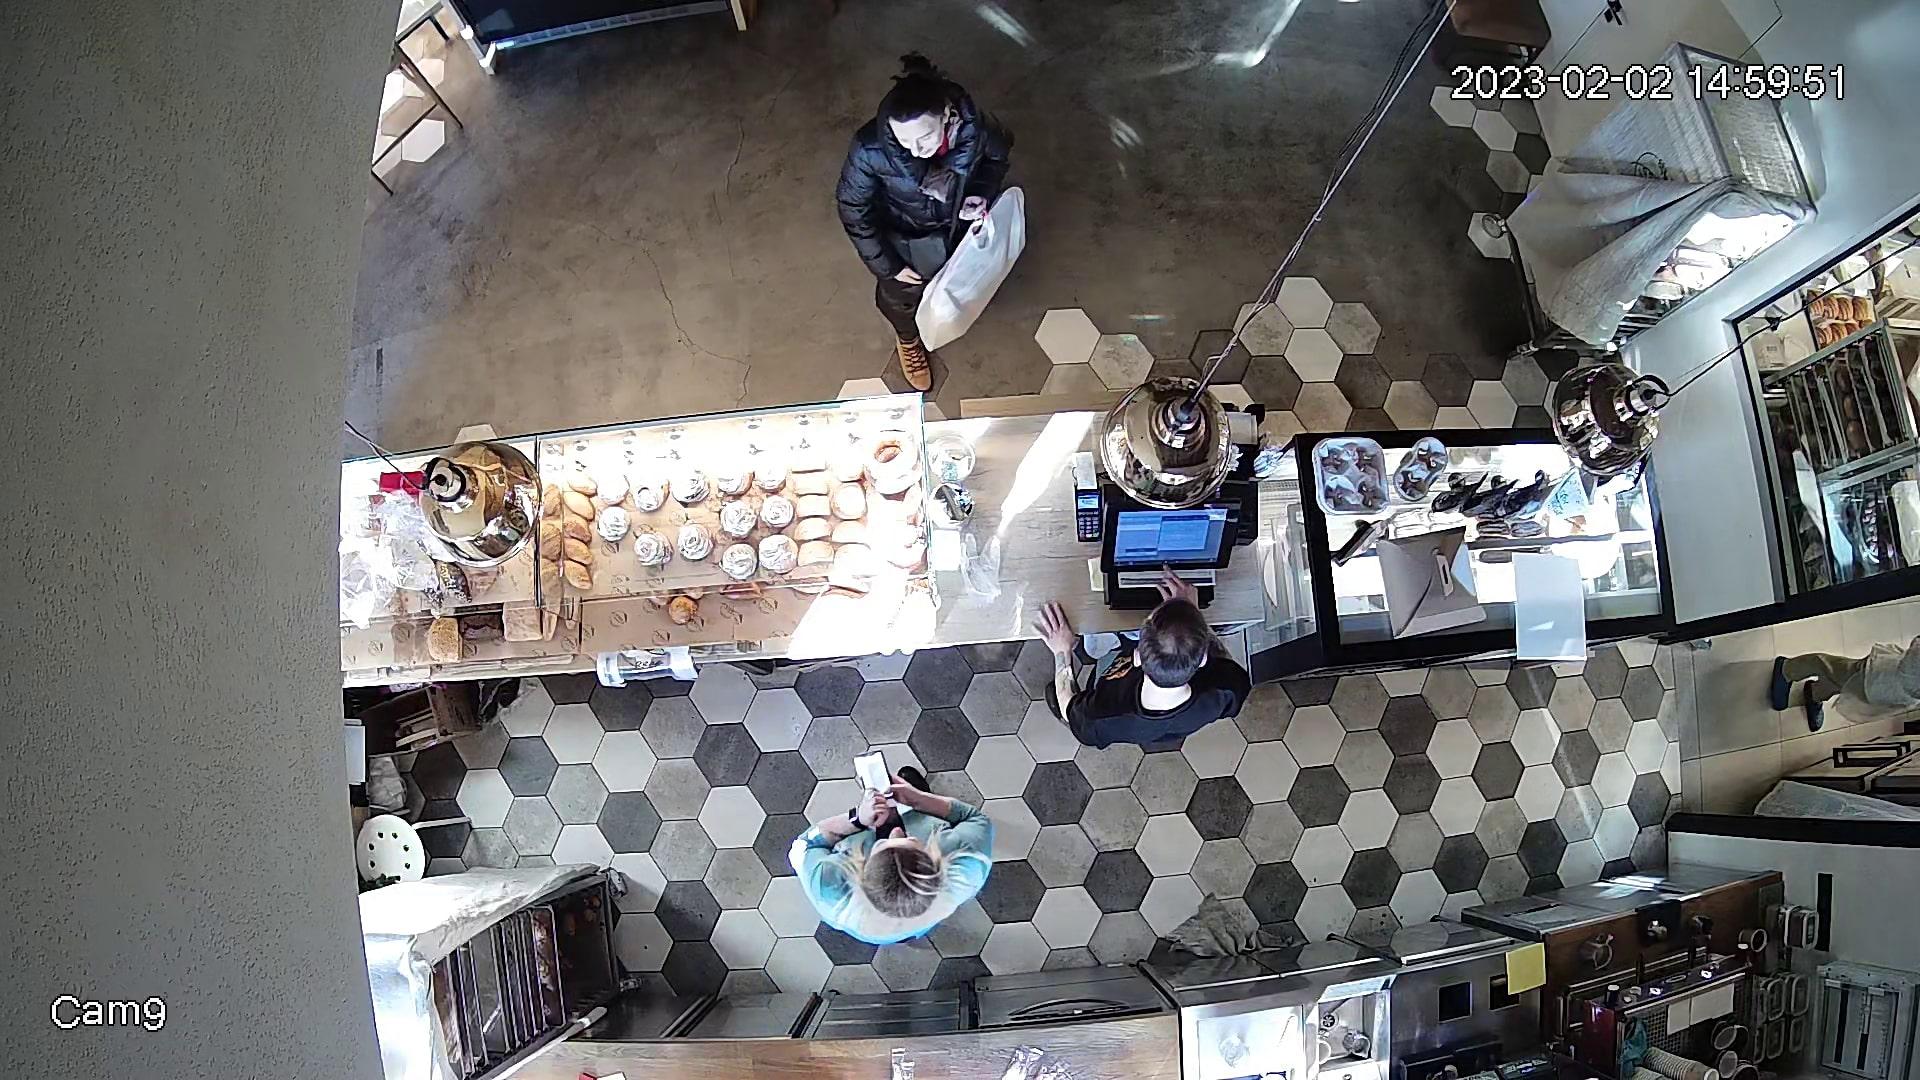barcounter: (352, 419, 1669, 675)
person: (799, 47, 1016, 386), (773, 745, 1017, 953), (1039, 590, 1264, 747)
